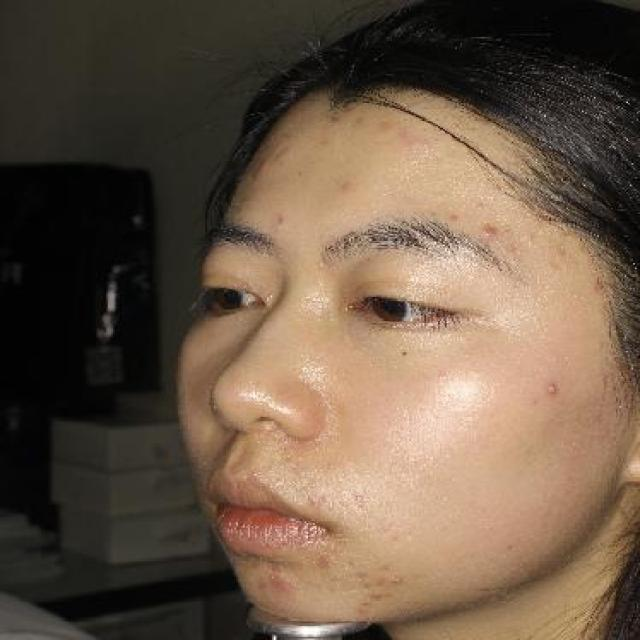papules: (478, 222, 507, 240)
pustules: (539, 374, 570, 398)
whiteheads: (392, 572, 407, 585)
